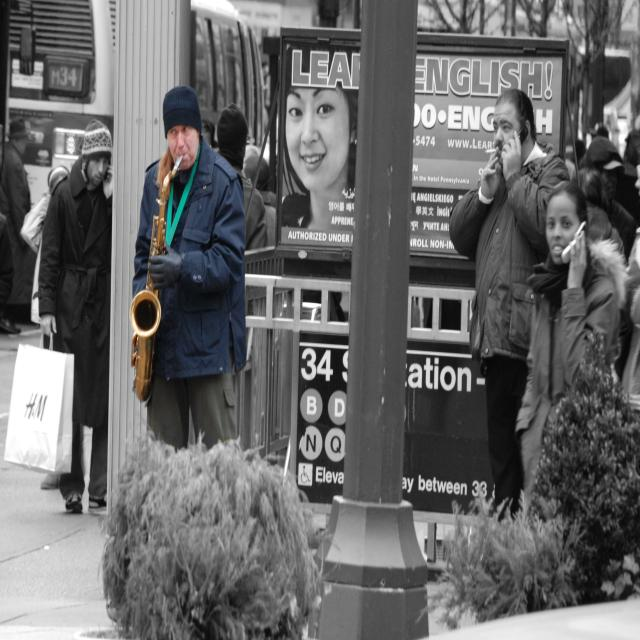saxophone: (132, 154, 186, 404)
